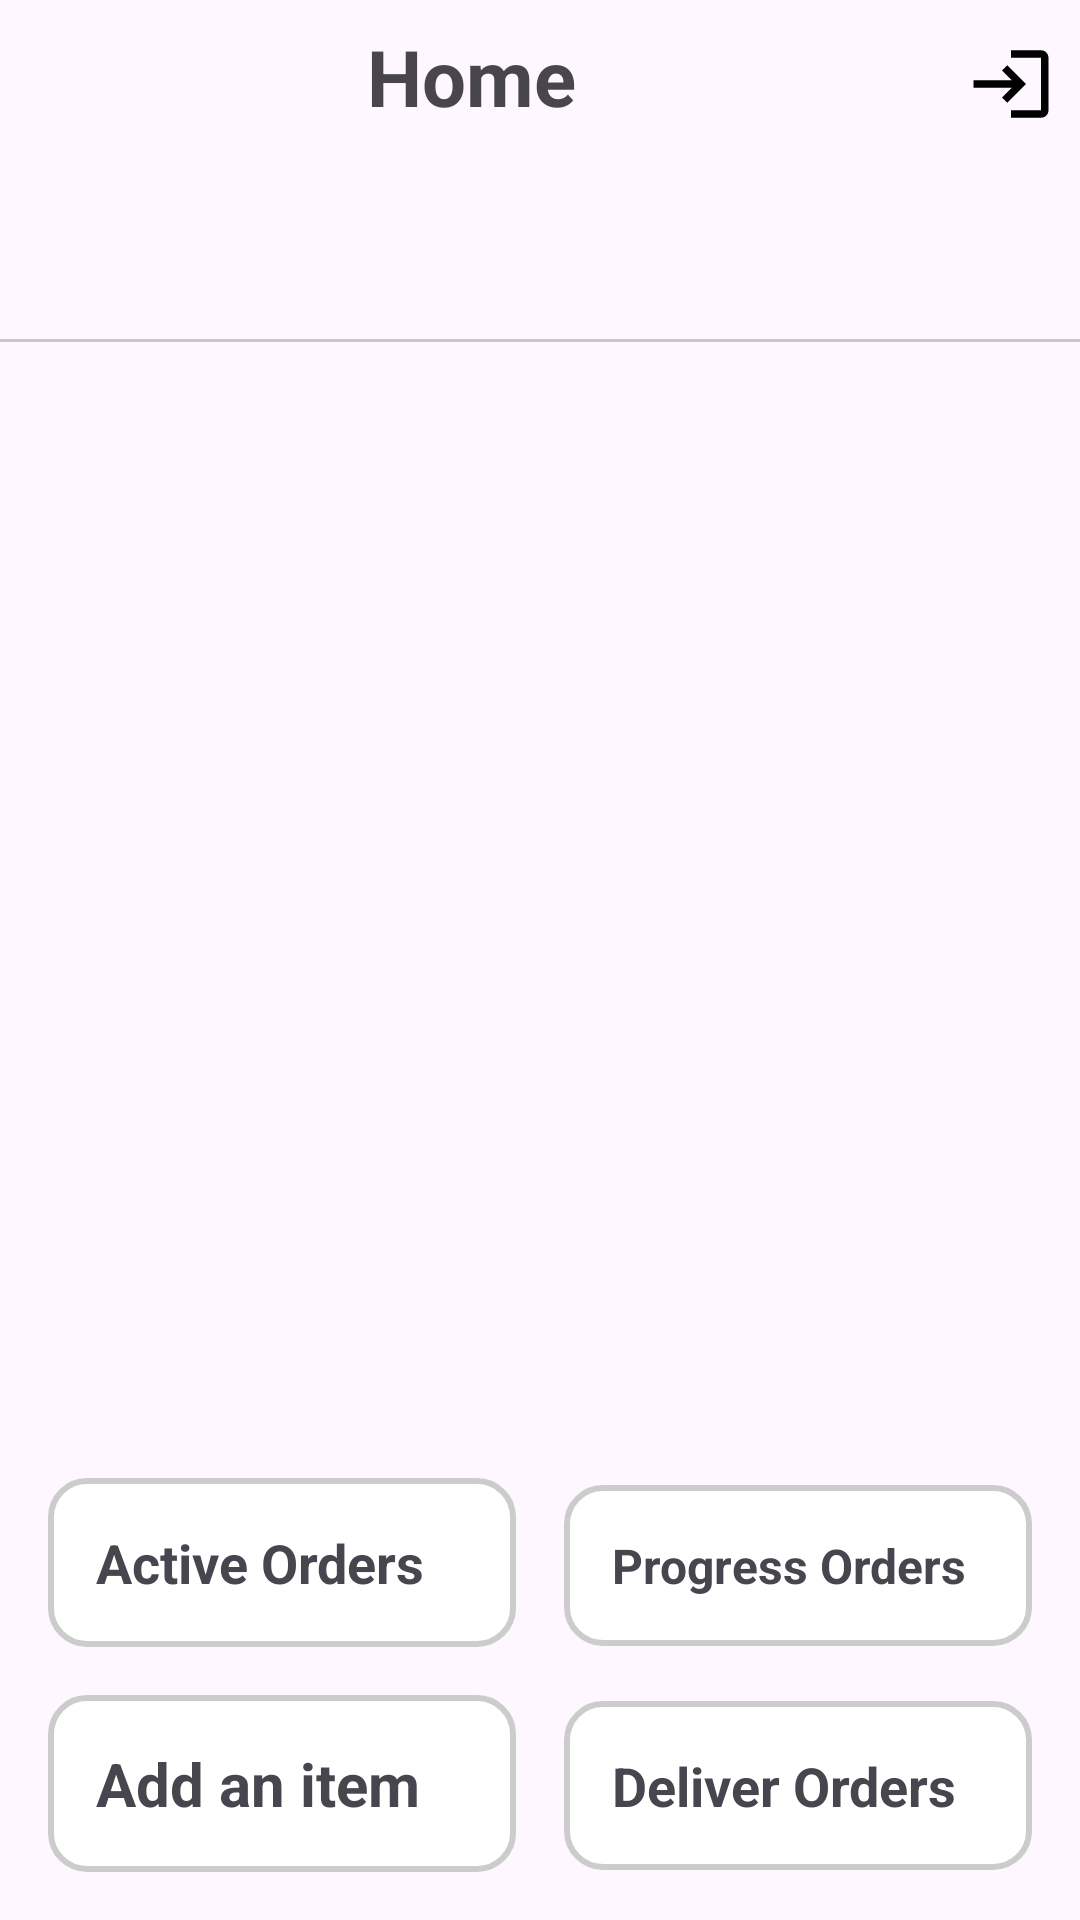

Icons on this 1080×1920 Android screen, each with the point to tap as [x,y]:
login: [1011,84]
